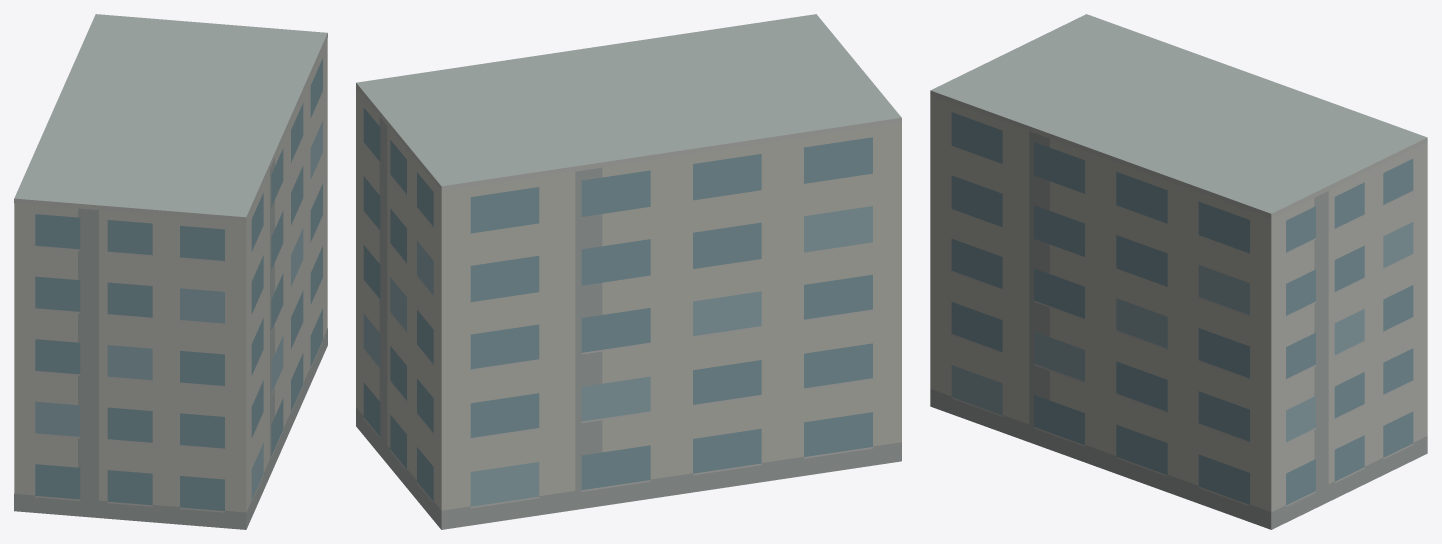
File: survey-upis-32881960.glb
3 views of the same model, side by side, from view 1: azimuth 30°, elevation 25°; view 2: azimuth 150°, elevation 25°; view 3: azimuth 270°, elevation 25° (orthographic). The views are drawn at different scales.
Parts seen in each view (by area): view 1: survey-upis-32881960.tmp; view 2: survey-upis-32881960.tmp; view 3: survey-upis-32881960.tmp.
Part boxes in pixels (box(x1,y1,x2,y2)): survey-upis-32881960.tmp: box(14, 14, 327, 529); survey-upis-32881960.tmp: box(356, 14, 901, 529); survey-upis-32881960.tmp: box(930, 14, 1427, 529).
Bounding box in the file's own units: 21.5 × 15.85 × 22.61.
